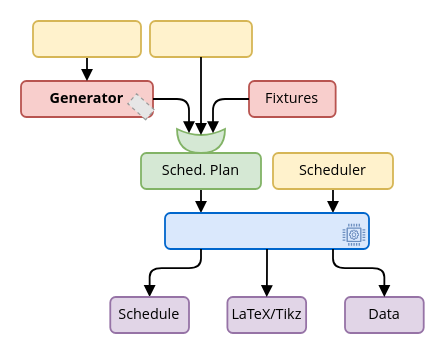
The diagram is 446 pixels wide and 355 high, and some of its shapes have lost their labels. Grey dashed boxes stand in for pictures. The box of each missing label's shape, as (x1, y1, x2, y2) in pixels:
Custom Plan: (149, 19, 252, 57)
Simulator: (164, 212, 369, 249)
Value Ranges: (32, 20, 141, 57)
